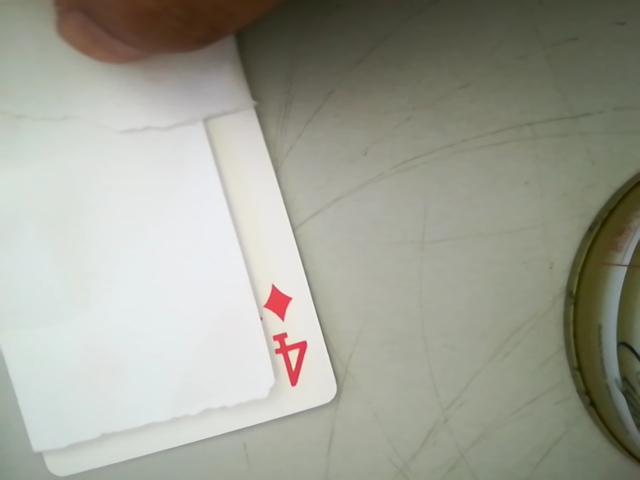fk 4: (251, 274, 320, 399)
